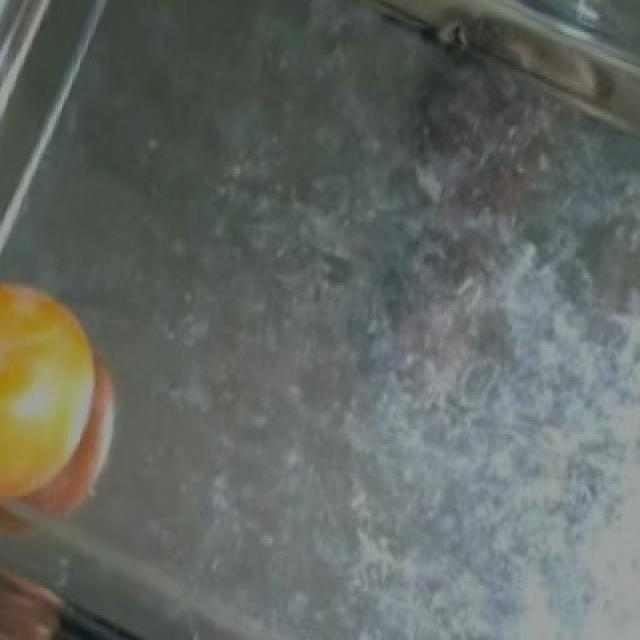Fruit: (0, 258, 126, 568), (0, 545, 90, 640)
